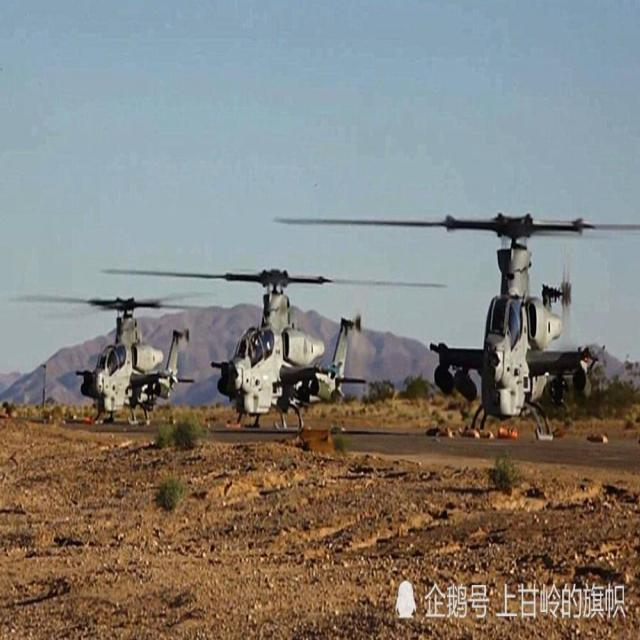MIL_HELO: (272, 204, 640, 451), (108, 257, 450, 433), (16, 289, 222, 420)
